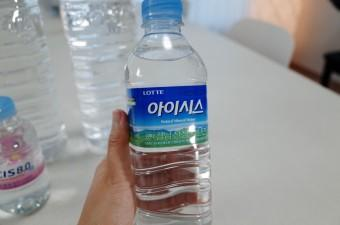pet: (125, 2, 215, 225), (0, 0, 66, 160)
